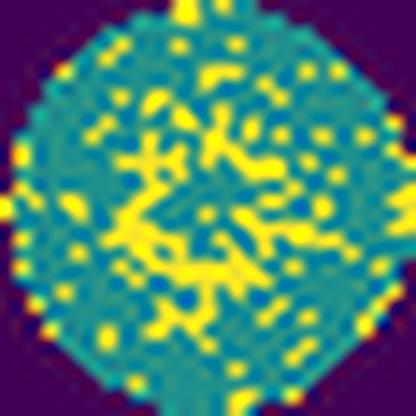Donut: (88, 73, 357, 347)
